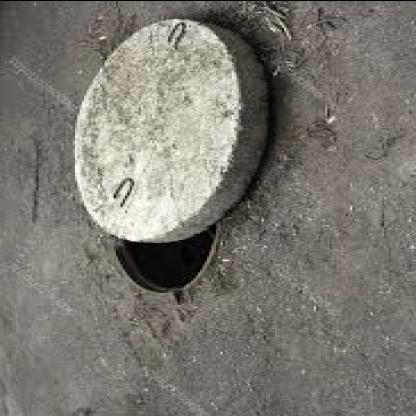manholes: (59, 16, 266, 312)
